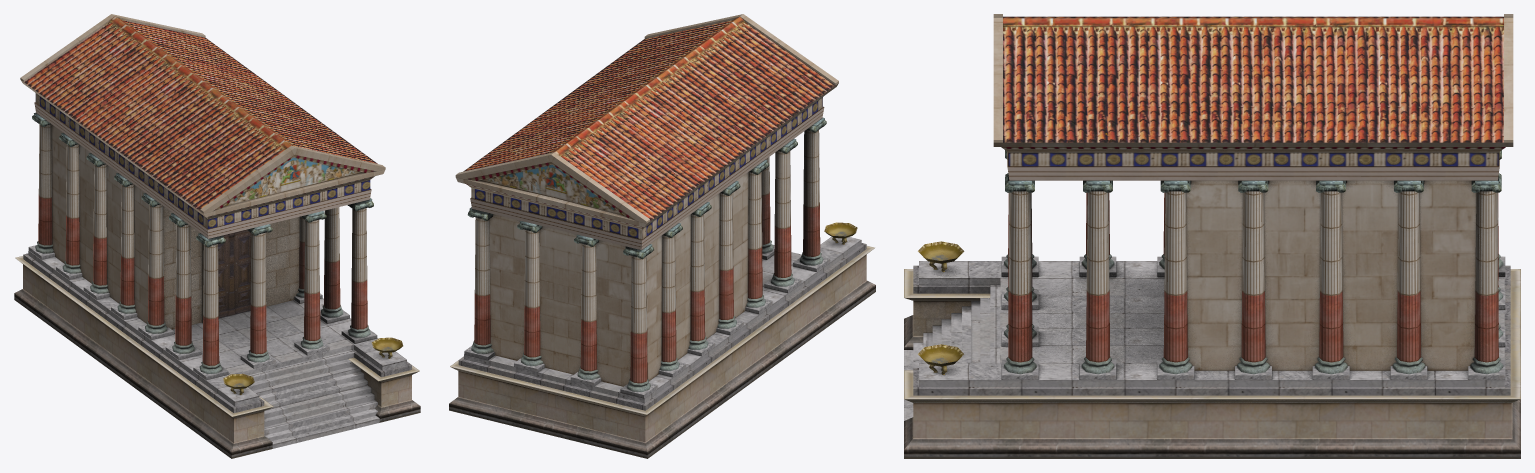
File: rome_hc.dae
3 renders of one model, left to right at view 1: azimuth 30°, elevation 25°; view 2: azimuth 150°, elevation 25°; view 3: azimuth 270°, elevation 25°, orthographic. The views are drawn at different scales.
Visible parts, largest first — view 1: rome_hc; view 2: rome_hc; view 3: rome_hc.
Part boxes in pixels (<box>): rome_hc: <box>14,14,420,458</box>; rome_hc: <box>449,14,875,458</box>; rome_hc: <box>904,14,1520,458</box>.
Size of the model in its own units: 13.67 by 18.28 by 27.22.
